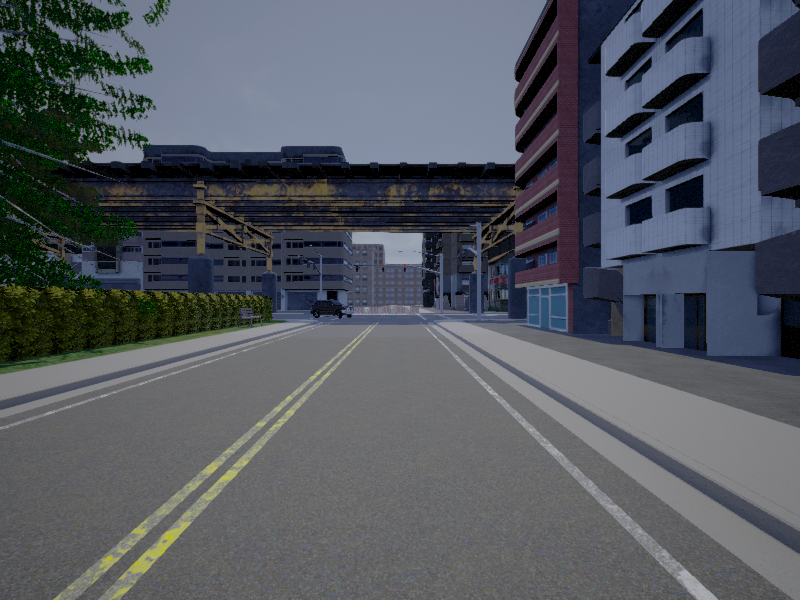Benign: (308, 299, 352, 320)
